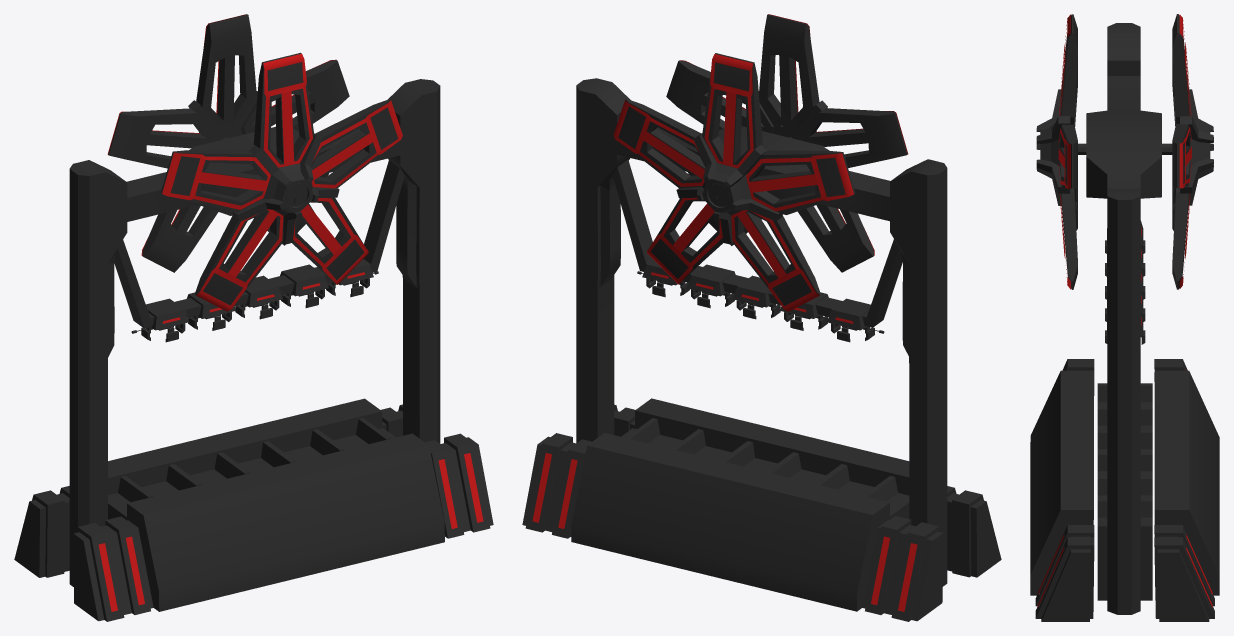
The model's file is EnergyOragan.fbx.
The picture shows the model from 3 angles, left to right: view 1: azimuth 30°, elevation 25°; view 2: azimuth 150°, elevation 25°; view 3: azimuth 270°, elevation 25°; orthographic projection.
Visible parts, largest first — view 1: 弹舱, 支架, 叶片A, 叶片B, 叶片D_2, 叶片A_2, 叶片B_2, 叶片C, 叶片E_2, 叶片E, 灯条_6, 叶片C_2 (+16 smaller); view 2: 弹舱, 支架, 叶片A_2, 叶片E_2, 叶片C, 叶片A, 叶片E, 叶片D_2, 叶片B, 叶片B_2, 灯条_6, 叶片D (+16 smaller); view 3: 弹舱, 支架, 叶片A, 叶片A_2, 叶片D, 叶片C_2, 叶片B_2, 叶片E, 灯条_6, 中心块_2, 中心块, 紧固件_7 (+7 smaller).
Part boxes in pixels (left/top/right/bottom): 弹舱: left=14, top=398, right=493, bottom=621; 支架: left=69, top=79, right=440, bottom=586; 叶片A: left=196, top=14, right=256, bottom=128; 叶片B: left=108, top=108, right=214, bottom=168; 叶片D_2: left=194, top=210, right=283, bottom=305; 叶片A_2: left=253, top=52, right=314, bottom=165; 叶片B_2: left=311, top=99, right=398, bottom=188; 叶片C: left=142, top=205, right=218, bottom=272; 叶片E_2: left=161, top=150, right=269, bottom=212; 叶片E: left=241, top=60, right=349, bottom=134; 灯条_6: left=98, top=453, right=483, bottom=611; 叶片C_2: left=292, top=197, right=364, bottom=283; 弹舱: left=522, top=398, right=1001, bottom=621; 支架: left=576, top=78, right=947, bottom=586; 叶片A_2: left=759, top=14, right=819, bottom=128; 叶片E_2: left=801, top=108, right=907, bottom=167; 叶片C: left=733, top=210, right=820, bottom=305; 叶片A: left=702, top=53, right=762, bottom=164; 叶片E: left=618, top=99, right=705, bottom=188; 叶片D_2: left=797, top=204, right=873, bottom=272; 叶片B: left=747, top=150, right=855, bottom=212; 叶片B_2: left=666, top=60, right=774, bottom=133; 灯条_6: left=532, top=453, right=917, bottom=611; 叶片D: left=650, top=198, right=723, bottom=283; 弹舱: left=1030, top=359, right=1219, bottom=621; 支架: left=1086, top=23, right=1161, bottom=614; 叶片A: left=1172, top=14, right=1189, bottom=123; 叶片A_2: left=1060, top=14, right=1077, bottom=124; 叶片D: left=1172, top=188, right=1189, bottom=289; 叶片C_2: left=1061, top=188, right=1077, bottom=289; 叶片B_2: left=1060, top=124, right=1077, bottom=188; 叶片E: left=1172, top=124, right=1190, bottom=188; 灯条_6: left=1037, top=369, right=1212, bottom=607; 中心块_2: left=1040, top=123, right=1064, bottom=166; 中心块: left=1186, top=124, right=1210, bottom=166; 紧固件_7: left=1036, top=159, right=1070, bottom=193.
Bounding box in the file's own units: 690 × 848 × 287.
